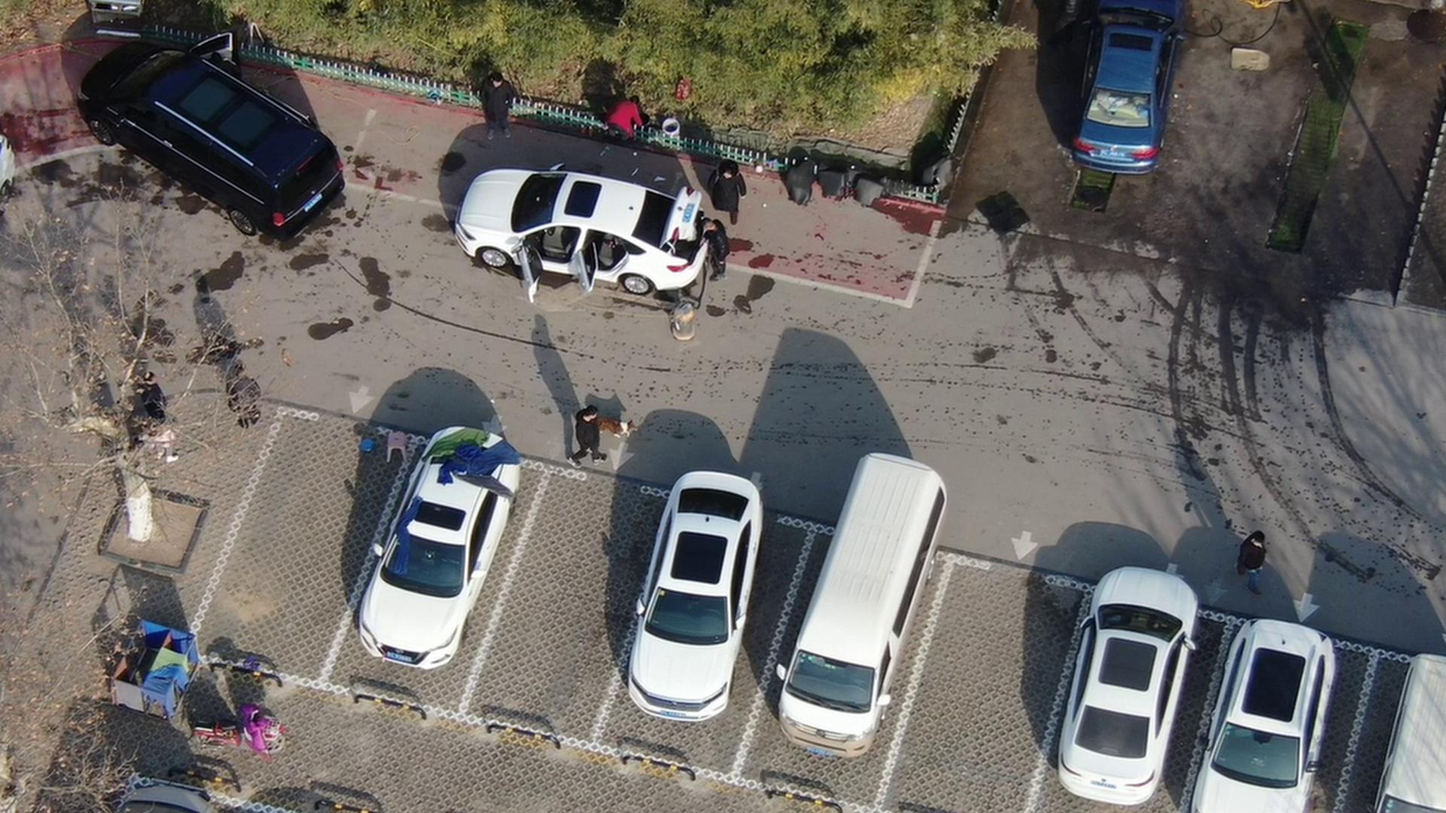class_2: (143, 371, 180, 449)
human: (1225, 525, 1276, 597), (567, 400, 612, 474), (492, 62, 533, 141), (229, 362, 270, 430), (614, 79, 654, 145), (701, 213, 735, 287), (1045, 1, 1090, 55)
